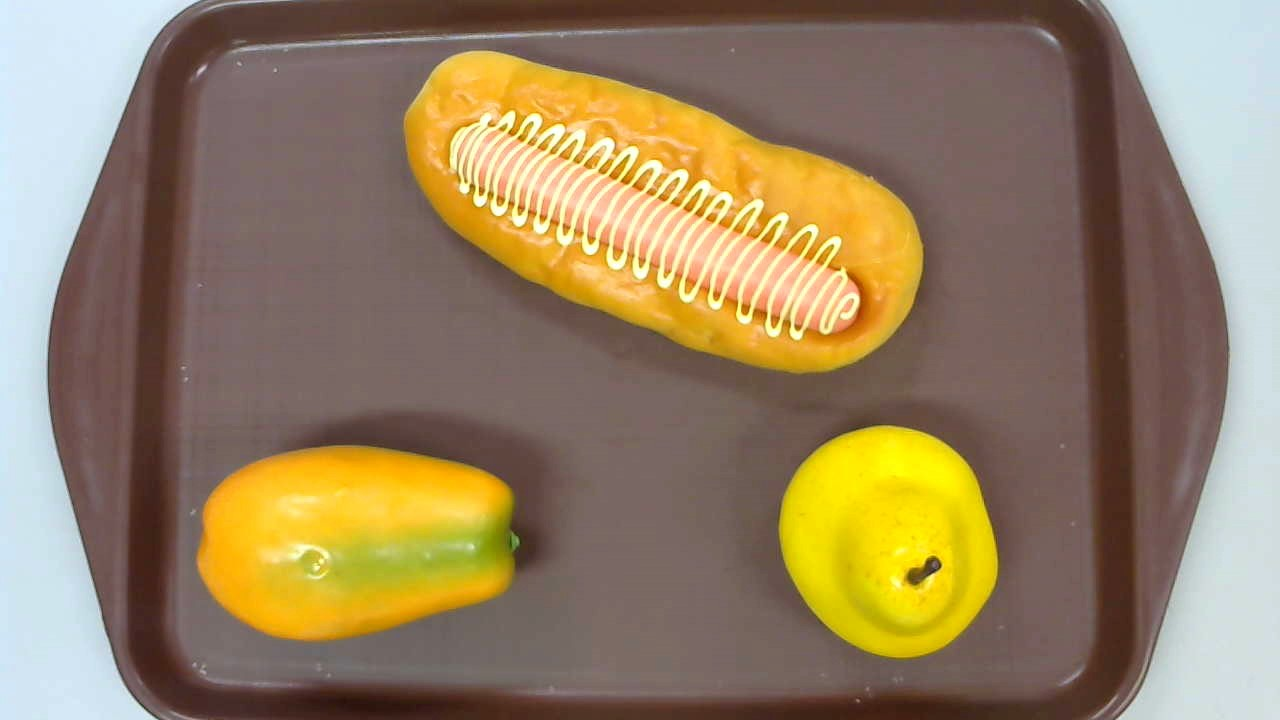hot dog: (403, 50, 926, 374)
papya: (196, 445, 521, 641)
yellow pear: (779, 424, 998, 658)
